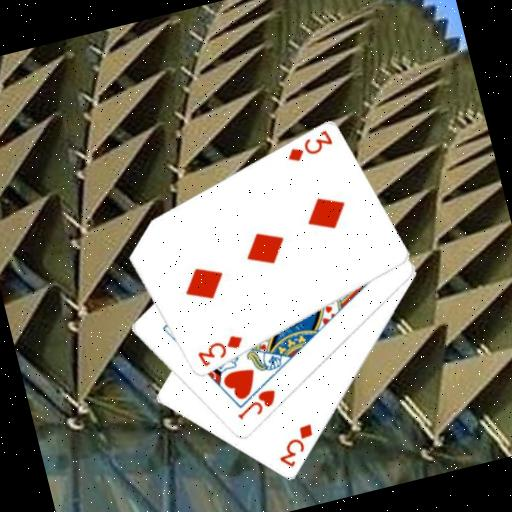3D: (269, 420, 322, 473), (192, 330, 249, 371), (280, 126, 337, 167)
JH: (230, 385, 282, 423)
